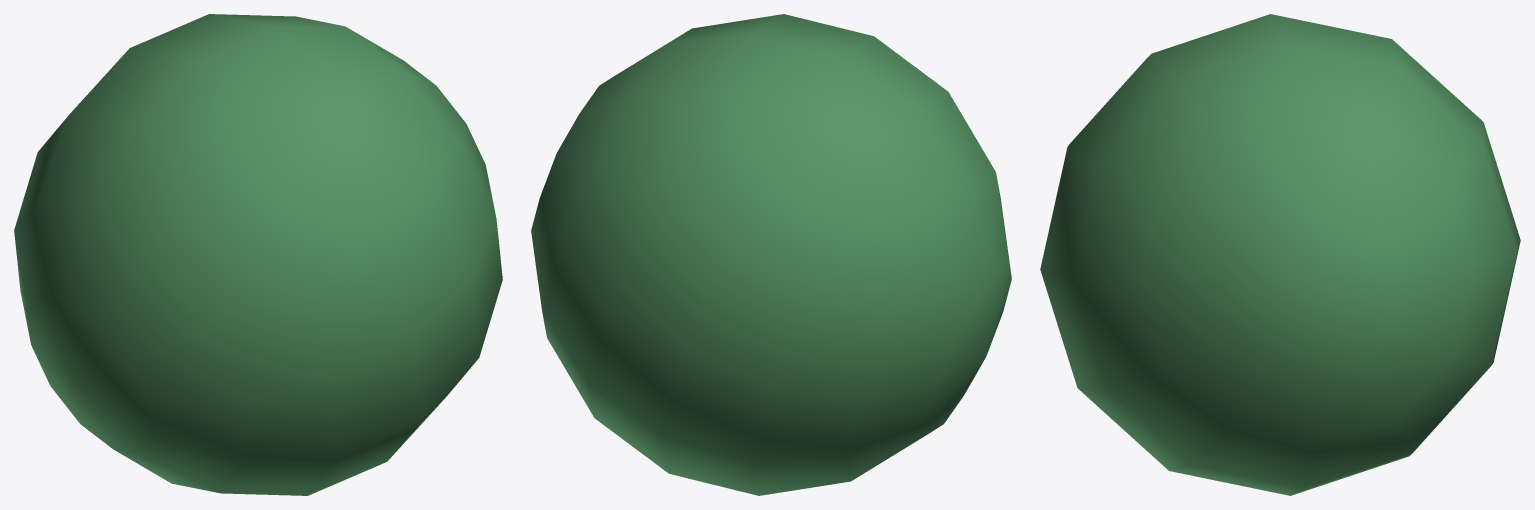
3 renders of one model, left to right at view 1: azimuth 30°, elevation 25°; view 2: azimuth 150°, elevation 25°; view 3: azimuth 270°, elevation 25°, orthographic.
Visible parts, largest first — view 1: 右侧腓淋巴结; view 2: 右侧腓淋巴结; view 3: 右侧腓淋巴结.
Part boxes in pixels (<box>): 右侧腓淋巴结: <box>14,14,502,495</box>; 右侧腓淋巴结: <box>531,14,1011,495</box>; 右侧腓淋巴结: <box>1040,14,1520,495</box>.
Bounding box in the file's own units: 0.00383 × 0.00382 × 0.00378.
